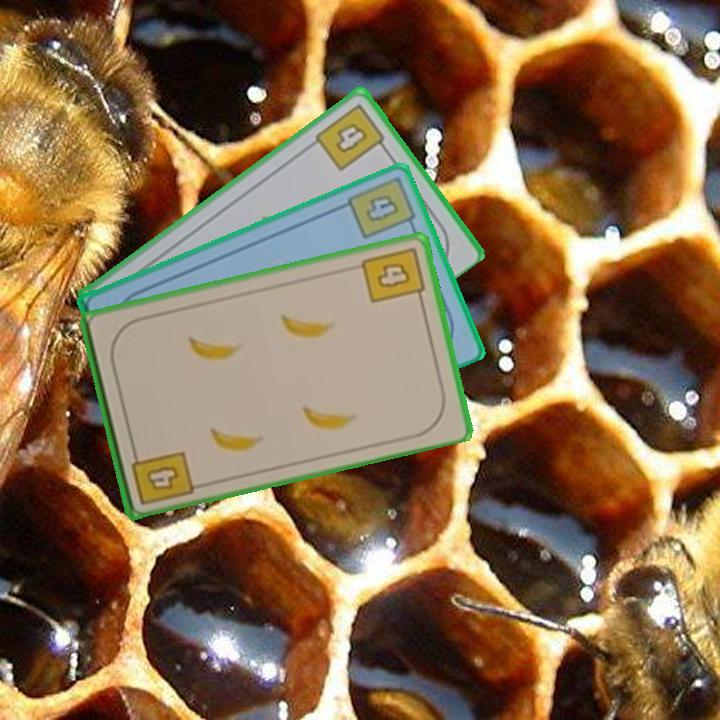4b: (311, 99, 391, 174), (343, 176, 419, 242), (127, 443, 196, 508), (358, 243, 427, 306)
